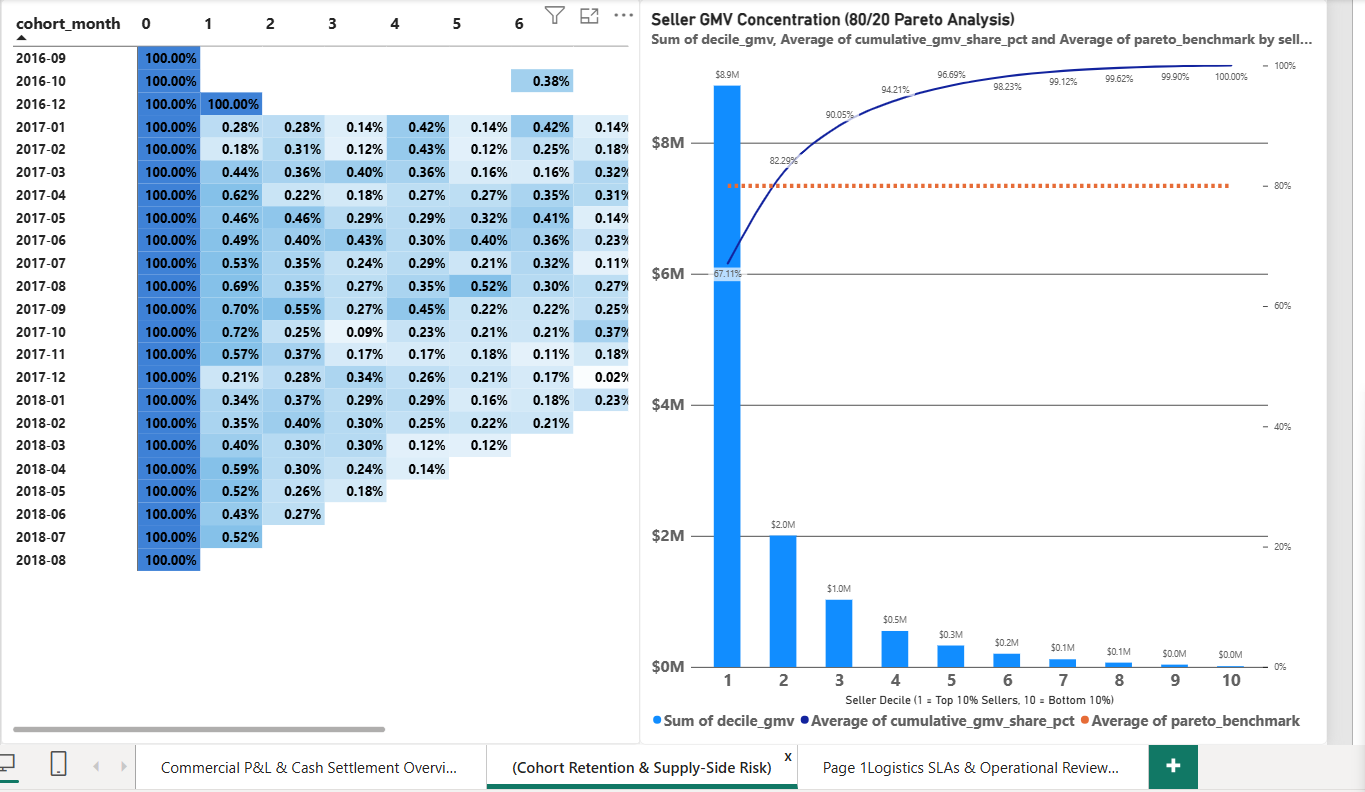

The page's visual inventory and layout, read from the dashboard file:
{"tool":"powerbi","page":{"name":"(Cohort Retention & Supply-Side Risk)","canvas":[1920,1080],"ordinal":1},"visuals":[{"type":"pivotTable","fields":{"Columns":["mart_cohort_retention_actuals (2).period_index"],"Rows":["mart_cohort_retention_actuals (2).cohort_month"],"Values":["Avg(mart_cohort_retention_actuals (2).retention_rate_pct)"]},"box":[0,0,925.5,1079.4],"z":0},{"type":"lineClusteredColumnComboChart","title":"Seller GMV Concentration (80/20 Pareto Analysis)","fields":{"Category":["mart_seller_concentration (2).seller_decile"],"Y":["select","Sum(mart_seller_concentration (2).decile_gmv)"],"Y2":["Avg(mart_seller_concentration (2).cumulative_gmv_share_pct)","Avg(mart_seller_concentration (2).pareto_benchmark)"]},"box":[925,0,995,1078.8],"z":1000}]}

Visuals, with their boxes on the page's 1920x1080 design canvas (x1, y1, x2, y2). These are canvas units, not pixel positions in the 1365x792 screenshot, which may show the page scaled, cropped or inside an application window:
pivotTable - mart_cohort_retention_actuals (2).period_index x mart_cohort_retention_actuals (2).cohort_month: x1=0 y1=0 x2=926 y2=1079
"Seller GMV Concentration (80/20 Pareto Analysis)" lineClusteredColumnComboChart: x1=925 y1=0 x2=1920 y2=1079
